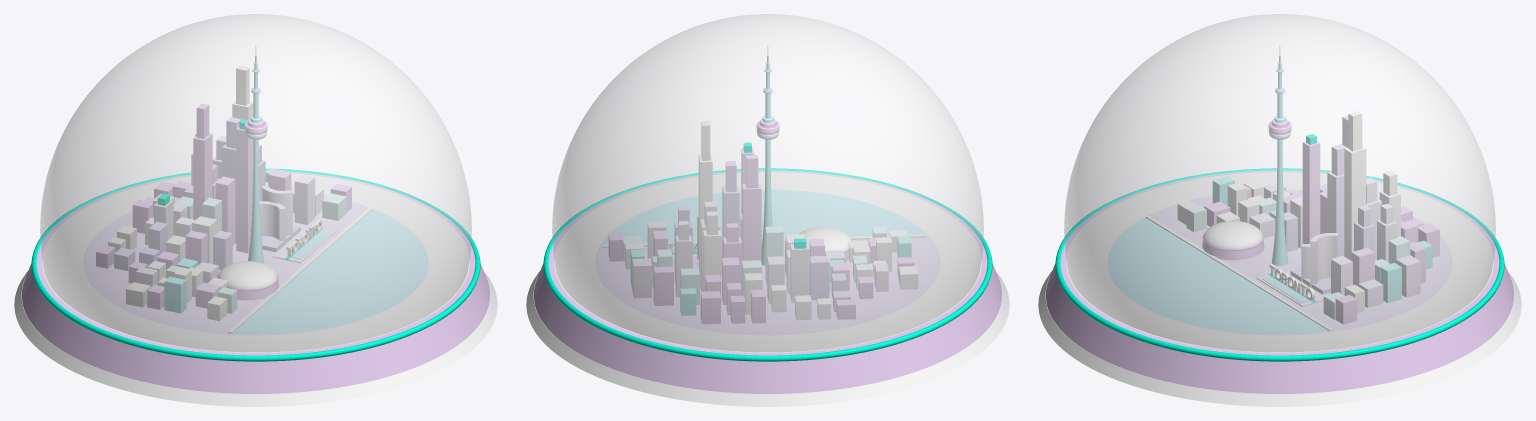
File: gag-city.glb
3 views of the same model, side by side, from view 1: azimuth 30°, elevation 25°; view 2: azimuth 150°, elevation 25°; view 3: azimuth 270°, elevation 25° (orthographic).
Parts seen in each view (by area): view 1: group_1, instances_24, group_15, instances_25, CNTower, group_11, group_19; view 2: group_1, instances_24, instances_25, CNTower, group_11; view 3: group_1, instances_24, instances_25, group_11, CNTower, group_15, group_19.
Boxes of the visible parts, box(x1,y1,x2,y2) form: group_1: box(14, 14, 497, 406); instances_24: box(96, 101, 351, 321); group_15: box(259, 185, 300, 252); instances_25: box(157, 65, 261, 205); CNTower: box(244, 46, 267, 263); group_11: box(217, 261, 278, 300); group_19: box(272, 219, 335, 262); group_1: box(526, 14, 1009, 406); instances_24: box(608, 148, 918, 324); instances_25: box(678, 120, 806, 248); CNTower: box(756, 46, 779, 265); group_11: box(799, 227, 852, 261); group_1: box(1038, 14, 1521, 406); instances_24: box(1177, 141, 1439, 324); instances_25: box(1306, 111, 1397, 227); group_11: box(1202, 221, 1264, 260); CNTower: box(1268, 46, 1291, 265); group_15: box(1290, 233, 1338, 294); group_19: box(1257, 264, 1323, 306).
Size of the model in its own units: 20.15 by 12.45 by 20.15.
